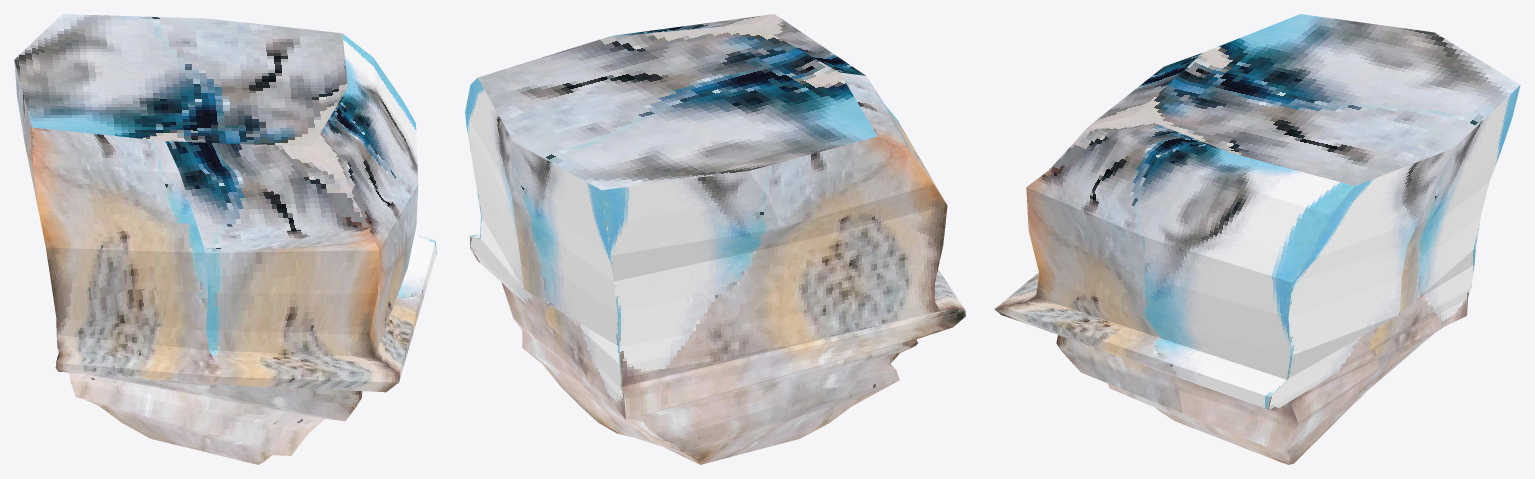
3 renders of one model, left to right at view 1: azimuth 30°, elevation 25°; view 2: azimuth 150°, elevation 25°; view 3: azimuth 270°, elevation 25°, orthographic. The views are drawn at different scales.
Parts seen in each view (by area): view 1: SPLICE_3; view 2: SPLICE_3; view 3: SPLICE_3.
Part boxes in pixels (left/top/right/bottom): SPLICE_3: left=14, top=14, right=436, bottom=464; SPLICE_3: left=465, top=14, right=965, bottom=464; SPLICE_3: left=994, top=14, right=1520, bottom=464.
Bounding box in the file's own units: 2.01 × 1.62 × 2.21.
Materials: 1 (1 with a texture image).
